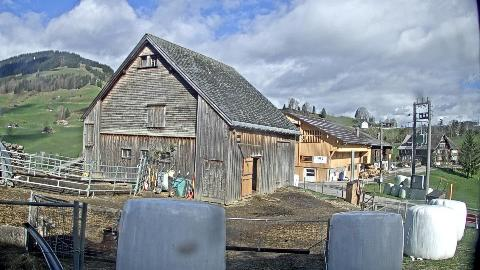car: (390, 162, 396, 172)
sheep: (38, 226, 118, 258), (1, 216, 57, 254)
